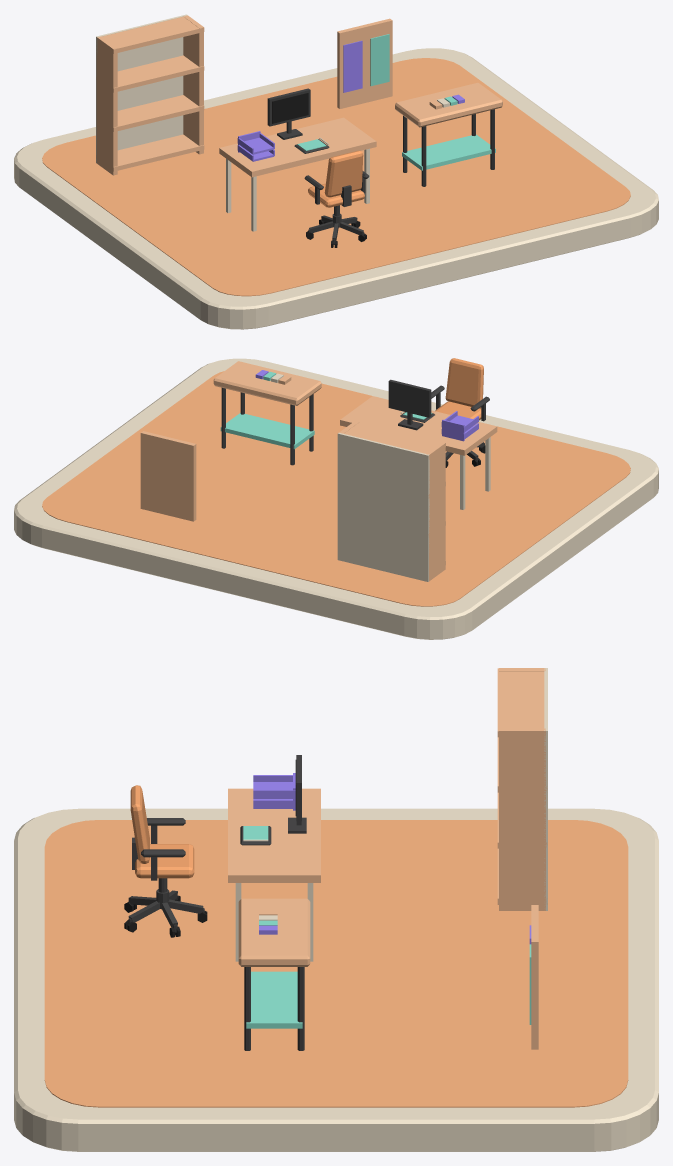
Rendered from room.fbx.
3 views of the same model, one above another, from view 1: azimuth 30°, elevation 25°; view 2: azimuth 150°, elevation 25°; view 3: azimuth 270°, elevation 25° (orthographic). The views are drawn at different scales.
Parts seen in each view (by area): view 1: COM-02 Floor Surface, COM-01 Rounded Base Direct, Top, Back, COM-04_Chair_blender_direct, Side, Design board, Worktop, Side.001, Shelf.003, Lower shelf, Shelf.001 (+5 smaller); view 2: COM-02 Floor Surface, COM-01 Rounded Base Direct, Back, Design board, Top, COM-04_Chair_blender_direct, Worktop, Side, Lower shelf, Frame, Shelf.003; view 3: COM-02 Floor Surface, COM-01 Rounded Base Direct, Side.001, Top, COM-04_Chair_blender_direct, Worktop, Shelf.003, Lower shelf, Design board, Back, Frame.
Part boxes in pixels (x1=…): COM-02 Floor Surface: x1=42, y1=58, x2=630, y2=296; COM-01 Rounded Base Direct: x1=14, y1=48, x2=658, y2=329; Top: x1=219, y1=117, x2=376, y2=231; Back: x1=96, y1=14, x2=187, y2=162; COM-04_Chair_blender_direct: x1=304, y1=150, x2=369, y2=247; Side: x1=96, y1=36, x2=117, y2=175; Design board: x1=337, y1=18, x2=392, y2=108; Worktop: x1=395, y1=82, x2=502, y2=127; Side.001: x1=183, y1=15, x2=203, y2=154; Shelf.003: x1=102, y1=16, x2=204, y2=53; Lower shelf: x1=402, y1=134, x2=495, y2=170; Shelf.001: x1=109, y1=95, x2=204, y2=131; COM-02 Floor Surface: x1=42, y1=371, x2=630, y2=606; COM-01 Rounded Base Direct: x1=14, y1=358, x2=658, y2=639; Back: x1=337, y1=432, x2=429, y2=581; Design board: x1=140, y1=431, x2=196, y2=521; Top: x1=340, y1=396, x2=497, y2=509; COM-04_Chair_blender_direct: x1=431, y1=358, x2=489, y2=467; Worktop: x1=213, y1=361, x2=321, y2=405; Side: x1=425, y1=442, x2=445, y2=581; Lower shelf: x1=220, y1=413, x2=314, y2=449; Frame: x1=388, y1=379, x2=431, y2=430; Shelf.003: x1=344, y1=421, x2=445, y2=459; COM-02 Floor Surface: x1=44, y1=820, x2=628, y2=1107; COM-01 Rounded Base Direct: x1=14, y1=808, x2=658, y2=1151; Side.001: x1=499, y1=728, x2=545, y2=910; Top: x1=228, y1=788, x2=320, y2=961; COM-04_Chair_blender_direct: x1=124, y1=785, x2=207, y2=937; Worktop: x1=238, y1=898, x2=310, y2=966; Shelf.003: x1=497, y1=668, x2=544, y2=737; Lower shelf: x1=246, y1=971, x2=302, y2=1028; Design board: x1=531, y1=905, x2=538, y2=1049; Back: x1=544, y1=668, x2=547, y2=910; Frame: x1=288, y1=755, x2=306, y2=833.
Size of the model in its own units: 600 by 190 by 520.
